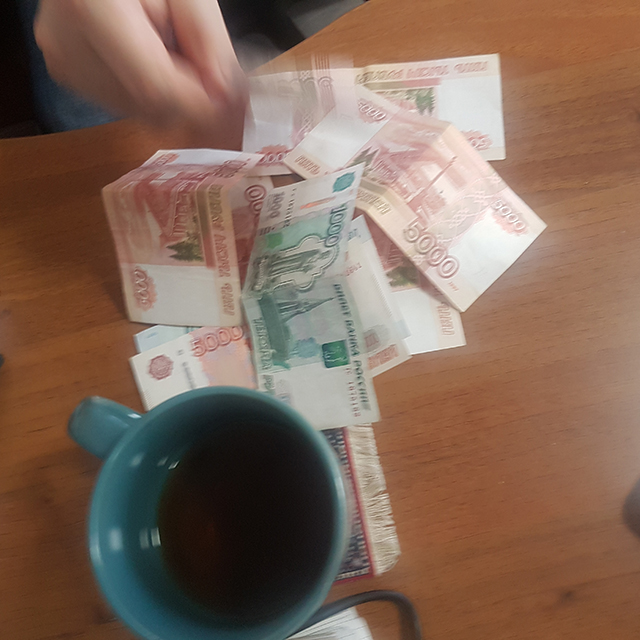banknotes: (300, 89, 539, 304), (254, 162, 383, 427), (241, 54, 506, 165), (97, 146, 243, 329), (129, 329, 254, 395)
